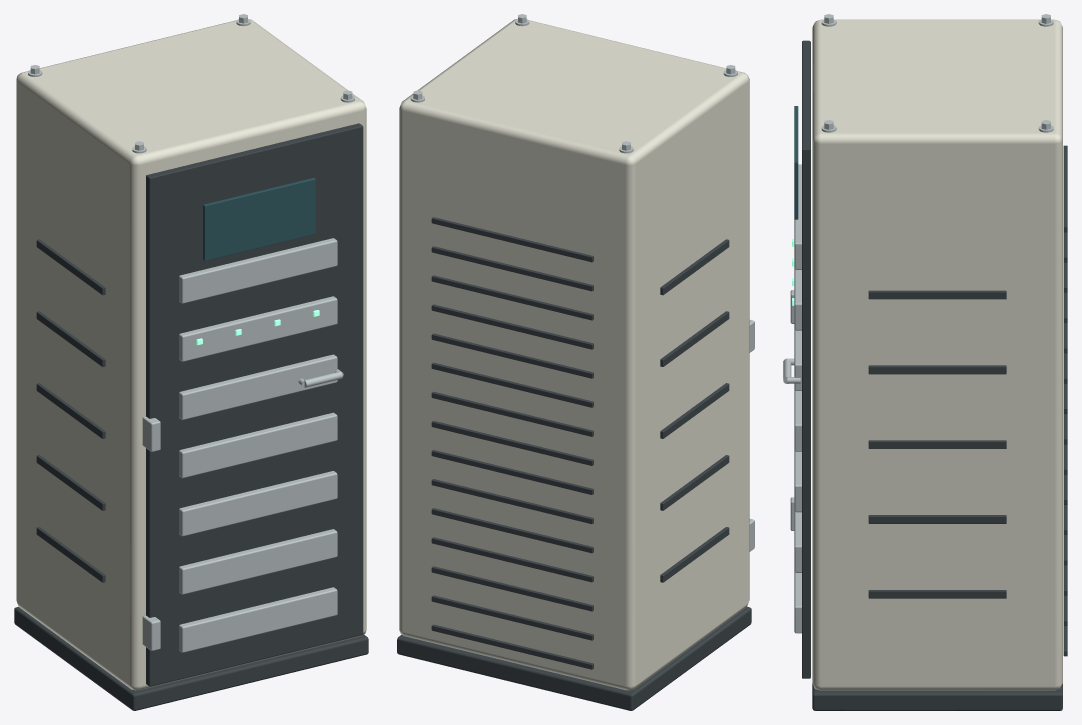
Rendered from broadcast-tower-and-relay-station-broadcast-tower-and--fa1fb98a__30259.glb.
The picture shows the model from 3 angles, left to right: view 1: azimuth 30°, elevation 25°; view 2: azimuth 150°, elevation 25°; view 3: azimuth 270°, elevation 25°; orthographic projection. The views are drawn at different scales.
Visible parts, largest first — view 1: broadcast-tower-and-relay-station-transmitter-cabinet; view 2: broadcast-tower-and-relay-station-transmitter-cabinet; view 3: broadcast-tower-and-relay-station-transmitter-cabinet.
Part boxes in pixels (x1,y1,x2,y2): broadcast-tower-and-relay-station-transmitter-cabinet: [14, 14, 368, 710]; broadcast-tower-and-relay-station-transmitter-cabinet: [397, 14, 754, 710]; broadcast-tower-and-relay-station-transmitter-cabinet: [783, 14, 1067, 710].
Size of the model in its own units: 0.8781 by 1.92 by 0.8509.
